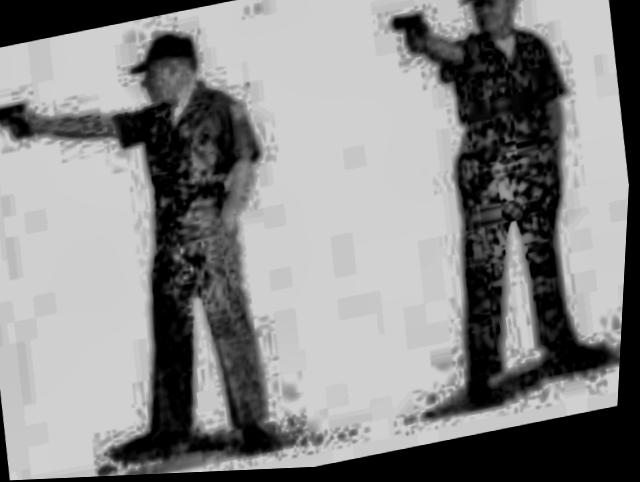pistol: (383, 8, 436, 57), (0, 95, 36, 152)
